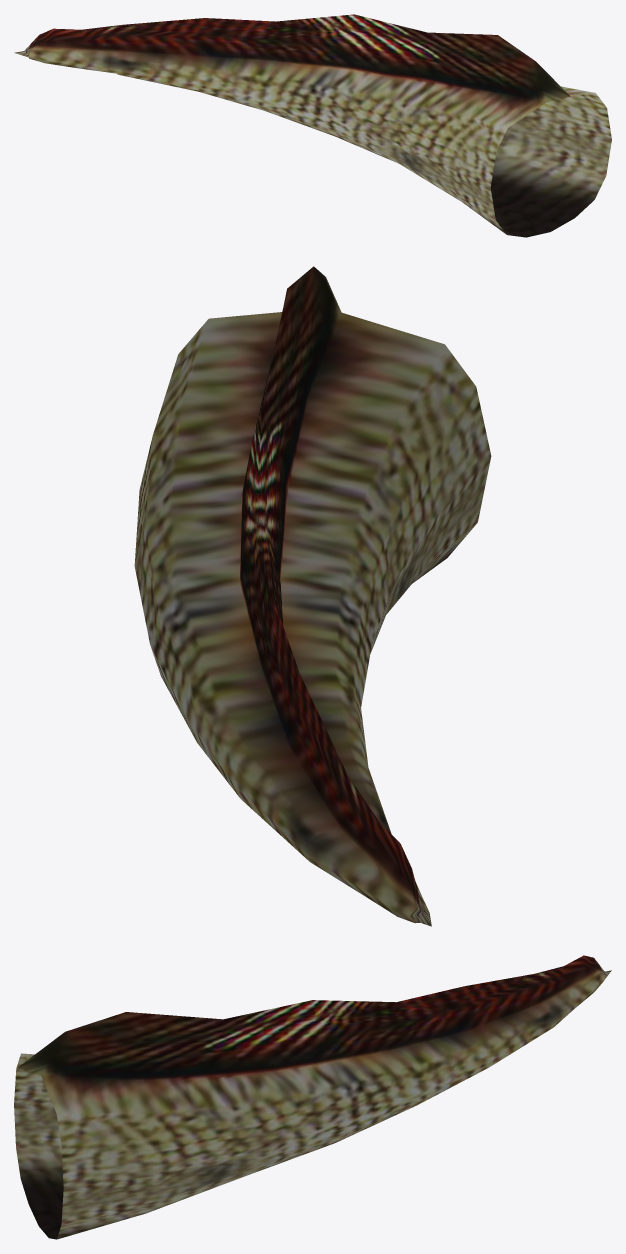
File: Cola.obj
3 views of the same model, one above another, from view 1: azimuth 30°, elevation 25°; view 2: azimuth 150°, elevation 25°; view 3: azimuth 270°, elevation 25° (orthographic). The views are drawn at different scales.
Parts seen in each view (by area): view 1: Cola; view 2: Cola; view 3: Cola.
Part boxes in pixels (box(x1,y1,x2,y2)): Cola: box(14, 14, 611, 237); Cola: box(134, 266, 491, 926); Cola: box(14, 955, 611, 1239).
Bounding box in the file's own units: 20.96 × 9.52 × 25.14.
1 material, 1 textured.
